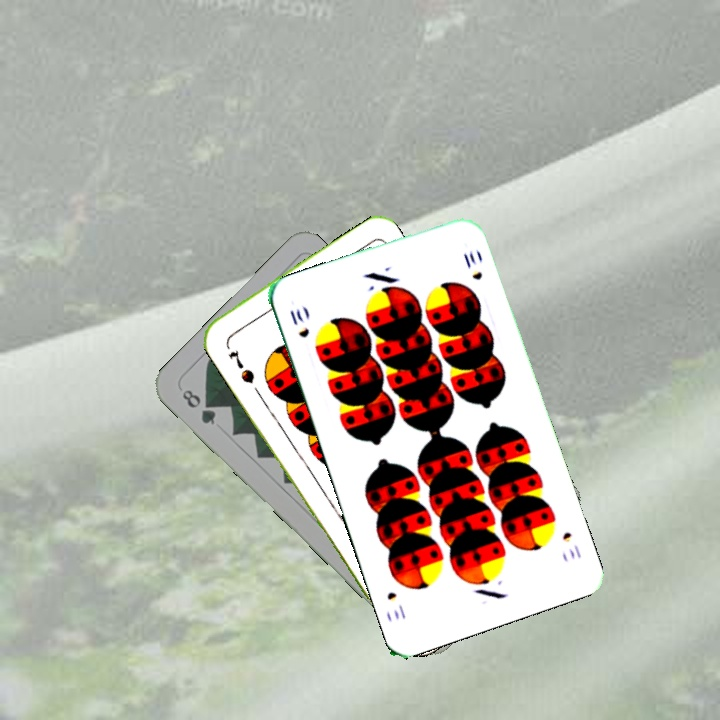G8: (177, 385, 219, 428)
S10: (286, 304, 312, 341), (558, 528, 584, 562)
S7: (223, 346, 257, 387)
